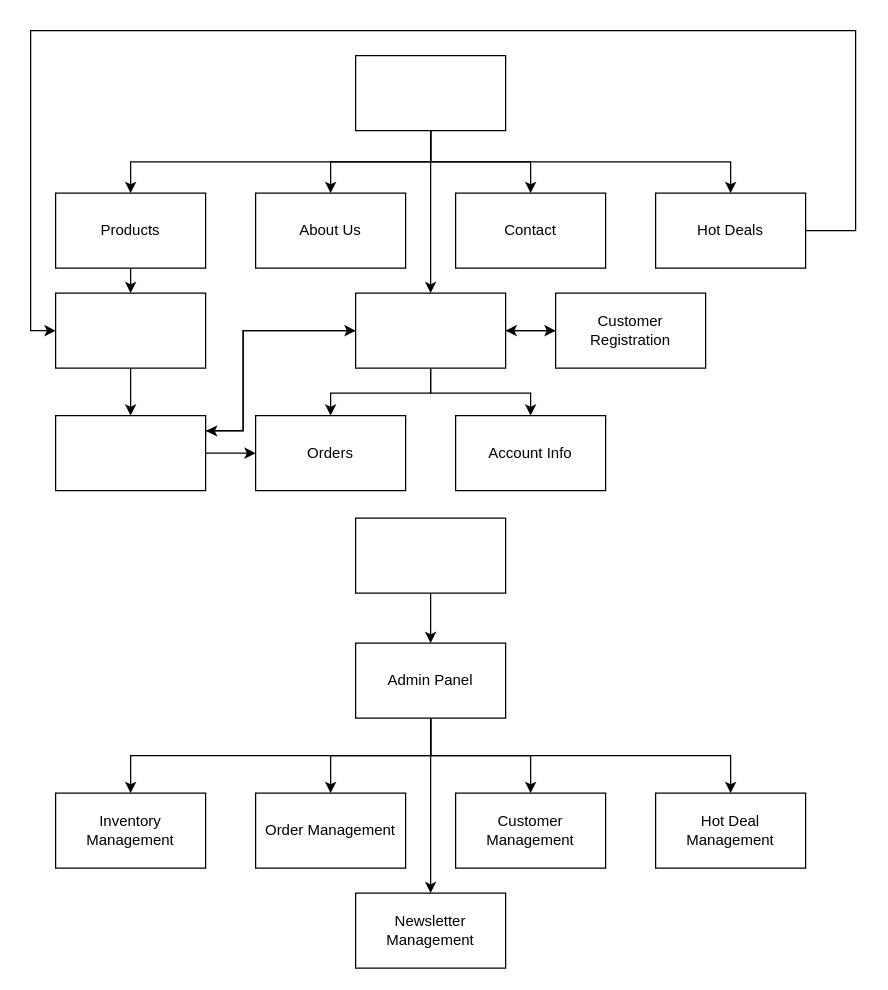
Image size: 888x990. Some labels were removed from this diagram. Here are the shapes that lost their labels. From the top down, the centre of each, then its label:
At pixel 430 92: "Homepage".
At pixel 130 330: "Cart".
At pixel 430 330: "Customer login".
At pixel 130 452: "Checkout".
At pixel 430 555: "Admin Login".
